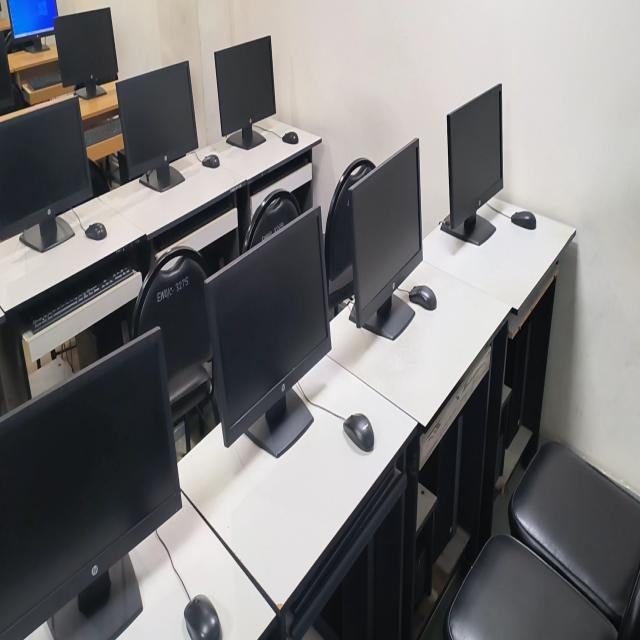Chair: (509, 441, 640, 626), (443, 535, 617, 639), (133, 247, 219, 452), (325, 158, 375, 316), (243, 190, 301, 252)
Cpu: (315, 546, 369, 639), (505, 322, 528, 446)
Keyboard: (29, 265, 134, 334), (84, 116, 121, 146), (27, 71, 61, 90)
Monitor: (0, 329, 181, 639), (204, 207, 331, 457), (349, 139, 422, 340), (0, 98, 92, 252), (116, 61, 198, 191), (441, 85, 503, 245), (214, 36, 276, 149), (54, 8, 117, 99), (7, 0, 58, 39)
Mouse: (184, 596, 222, 639), (343, 413, 374, 452), (409, 286, 436, 311), (511, 210, 536, 229), (85, 223, 107, 240), (202, 154, 220, 168), (282, 132, 298, 144)
